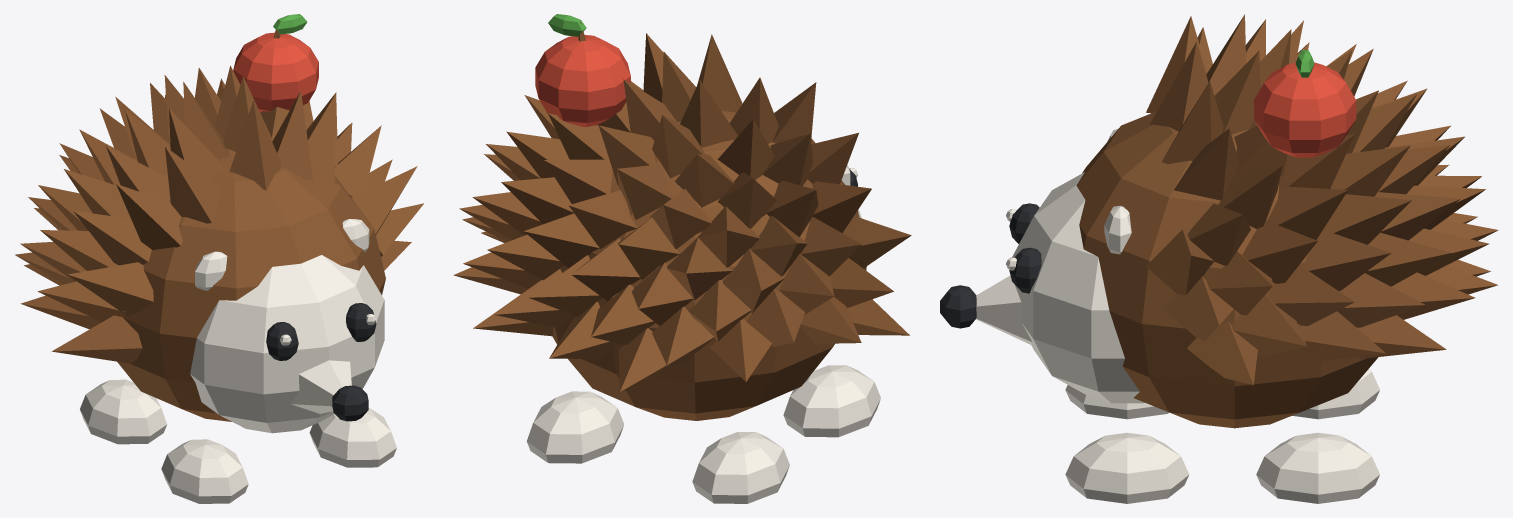
Rendered from hedgehog-pet.glb.
3 views of the same model, side by side, from view 1: azimuth 30°, elevation 25°; view 2: azimuth 150°, elevation 25°; view 3: azimuth 270°, elevation 25° (orthographic). The views are drawn at different scales.
Parts seen in each view (by area): view 1: Hedgehog; view 2: Hedgehog; view 3: Hedgehog.
Boxes of the visible parts, x1,y1,x2,y2 form: Hedgehog: (15, 14, 423, 503); Hedgehog: (453, 14, 911, 503); Hedgehog: (940, 14, 1498, 503).
Size of the model in its own units: 1.87 by 1.8 by 2.07.
